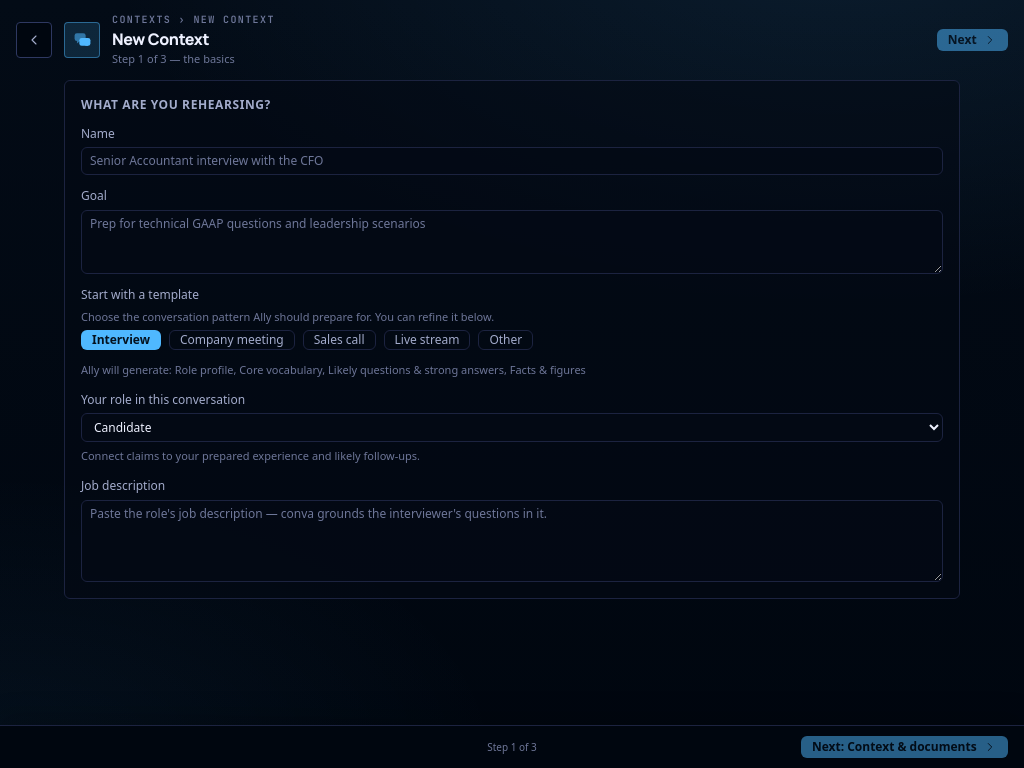
Test case: ContextSetup wizard › shows the job-description field only for Interview
expect the text box with placeholder "Job description" is shown: met, box [81,500,943,582]
Switching to an internal type hides it.
Click the button "Company meeting".
click(232, 340)  # box [169,330,295,350]
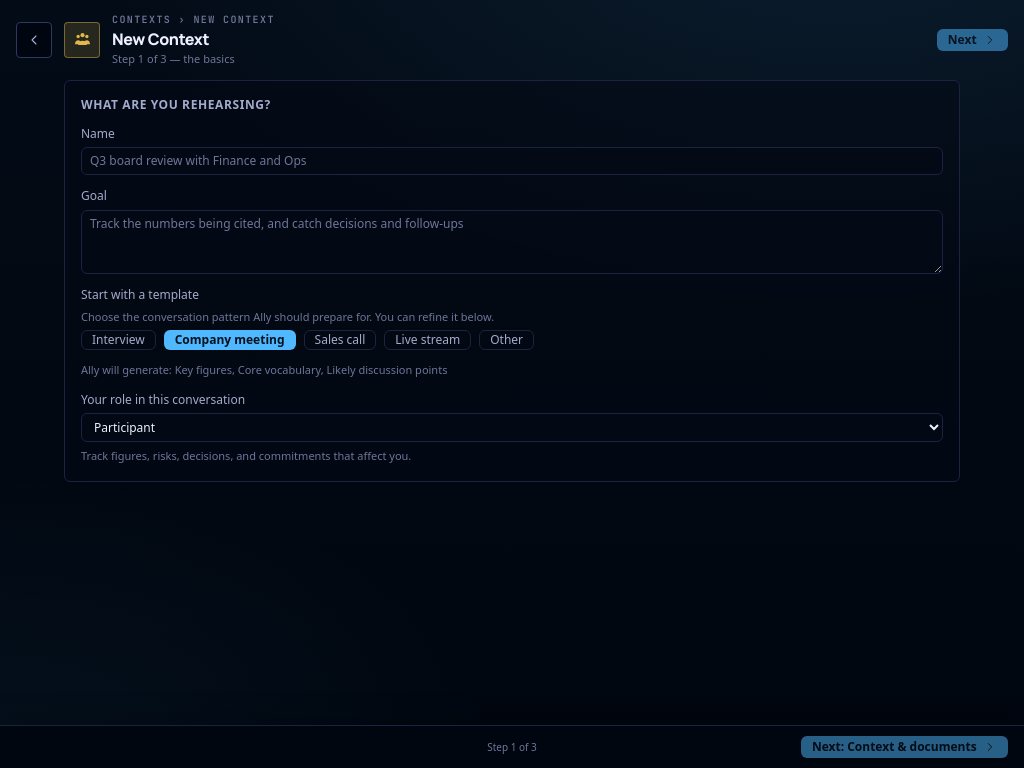
expect the label with placeholder "Job description" is gone: met
